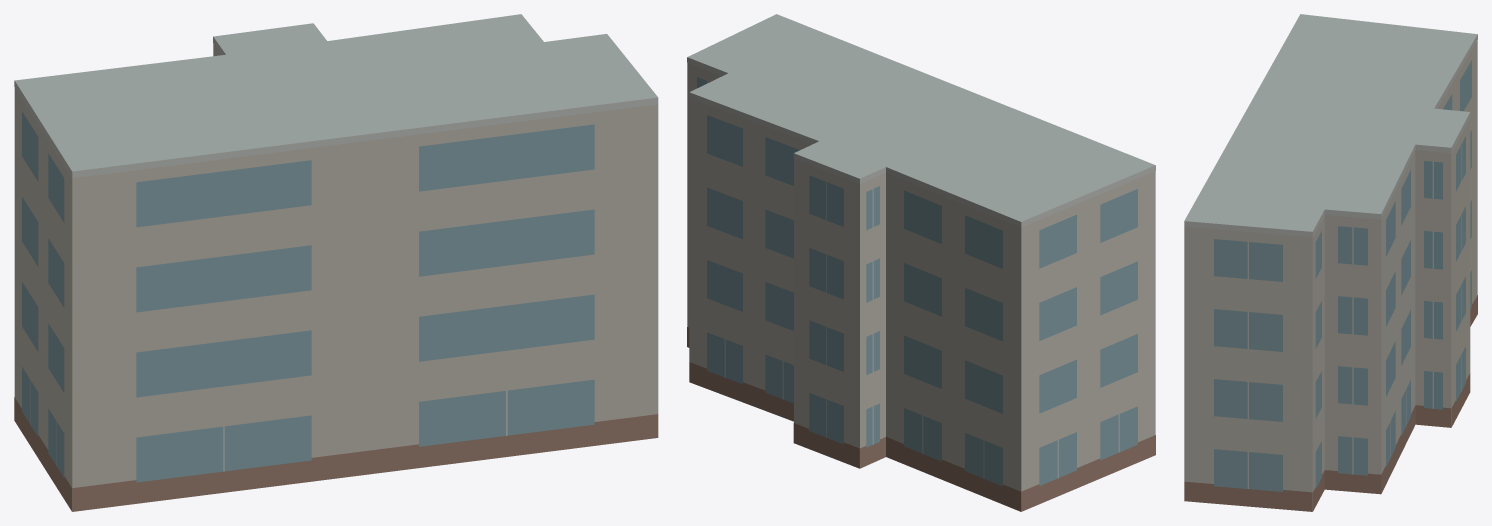
The model's file is survey-upis-32680839.glb.
3 renders of one model, left to right at view 1: azimuth 30°, elevation 25°; view 2: azimuth 150°, elevation 25°; view 3: azimuth 270°, elevation 25°, orthographic. The views are drawn at different scales.
Parts seen in each view (by area): view 1: survey-upis-32680839.tmp; view 2: survey-upis-32680839.tmp; view 3: survey-upis-32680839.tmp.
Boxes of the visible parts, x1,y1,x2,y2 form: survey-upis-32680839.tmp: (14, 14, 658, 511); survey-upis-32680839.tmp: (687, 14, 1155, 511); survey-upis-32680839.tmp: (1184, 14, 1477, 511).
Bounding box in the file's own units: 20.78 × 12.45 × 11.84.
